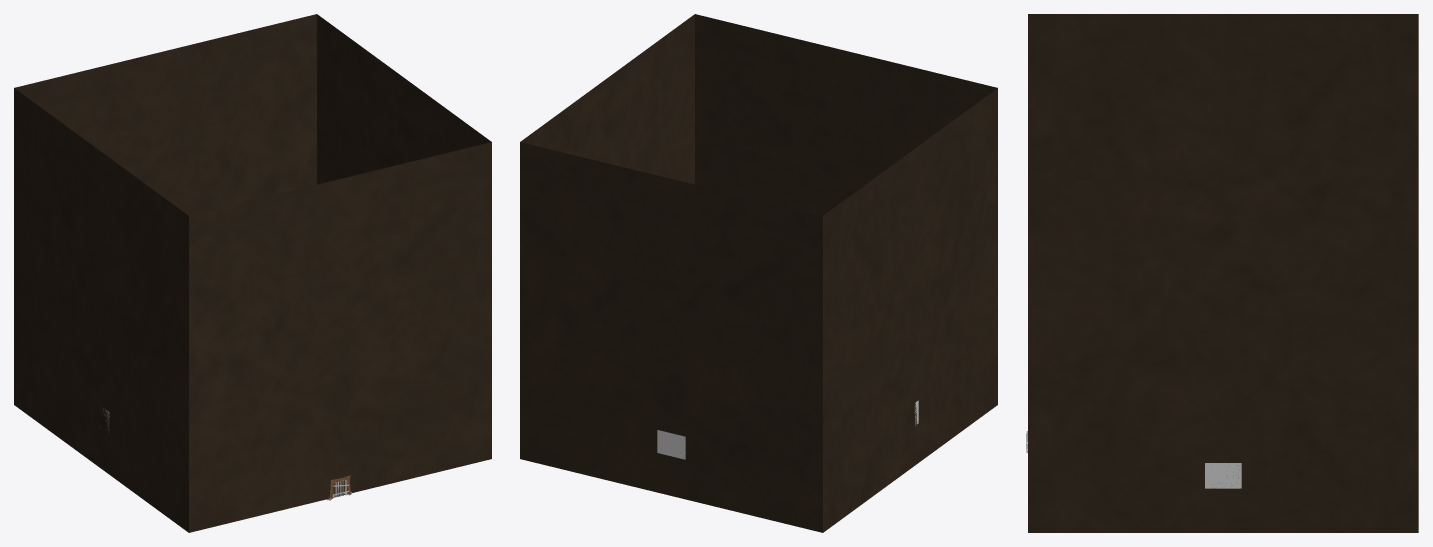
Rendered from Room011.fbx.
3 renders of one model, left to right at view 1: azimuth 30°, elevation 25°; view 2: azimuth 150°, elevation 25°; view 3: azimuth 270°, elevation 25°, orthographic. The views are drawn at different scales.
Parts seen in each view (by area): view 1: 4ParedN, 3ParedSinPuertaE, 2ParedSinPuertaS, 1ParedSinPuertaW, 4Pared.002N, 4Pared.001N; view 2: 2ParedSinPuertaS, 3ParedSinPuertaE, 4ParedN, 1ParedSinPuertaW, 1Plataforma.001; view 3: 1ParedSinPuertaW, 3ParedSinPuertaE, 1Plataforma.002.
Boxes of the visible parts, x1,y1,x2,y2 form: 4ParedN: (189, 142, 491, 516); 3ParedSinPuertaE: (14, 88, 188, 532); 2ParedSinPuertaS: (14, 14, 316, 215); 1ParedSinPuertaW: (317, 14, 491, 184); 4Pared.002N: (350, 443, 491, 493); 4Pared.001N: (189, 482, 330, 532); 2ParedSinPuertaS: (520, 142, 822, 532); 3ParedSinPuertaE: (823, 88, 997, 532); 4ParedN: (695, 14, 997, 215); 1ParedSinPuertaW: (520, 14, 694, 184); 1Plataforma.001: (657, 430, 685, 459); 1ParedSinPuertaW: (1028, 179, 1418, 532); 3ParedSinPuertaE: (1028, 14, 1418, 178); 1Plataforma.002: (1205, 463, 1241, 488).
Size of the model in its own units: 9600 by 9693 by 9646.
